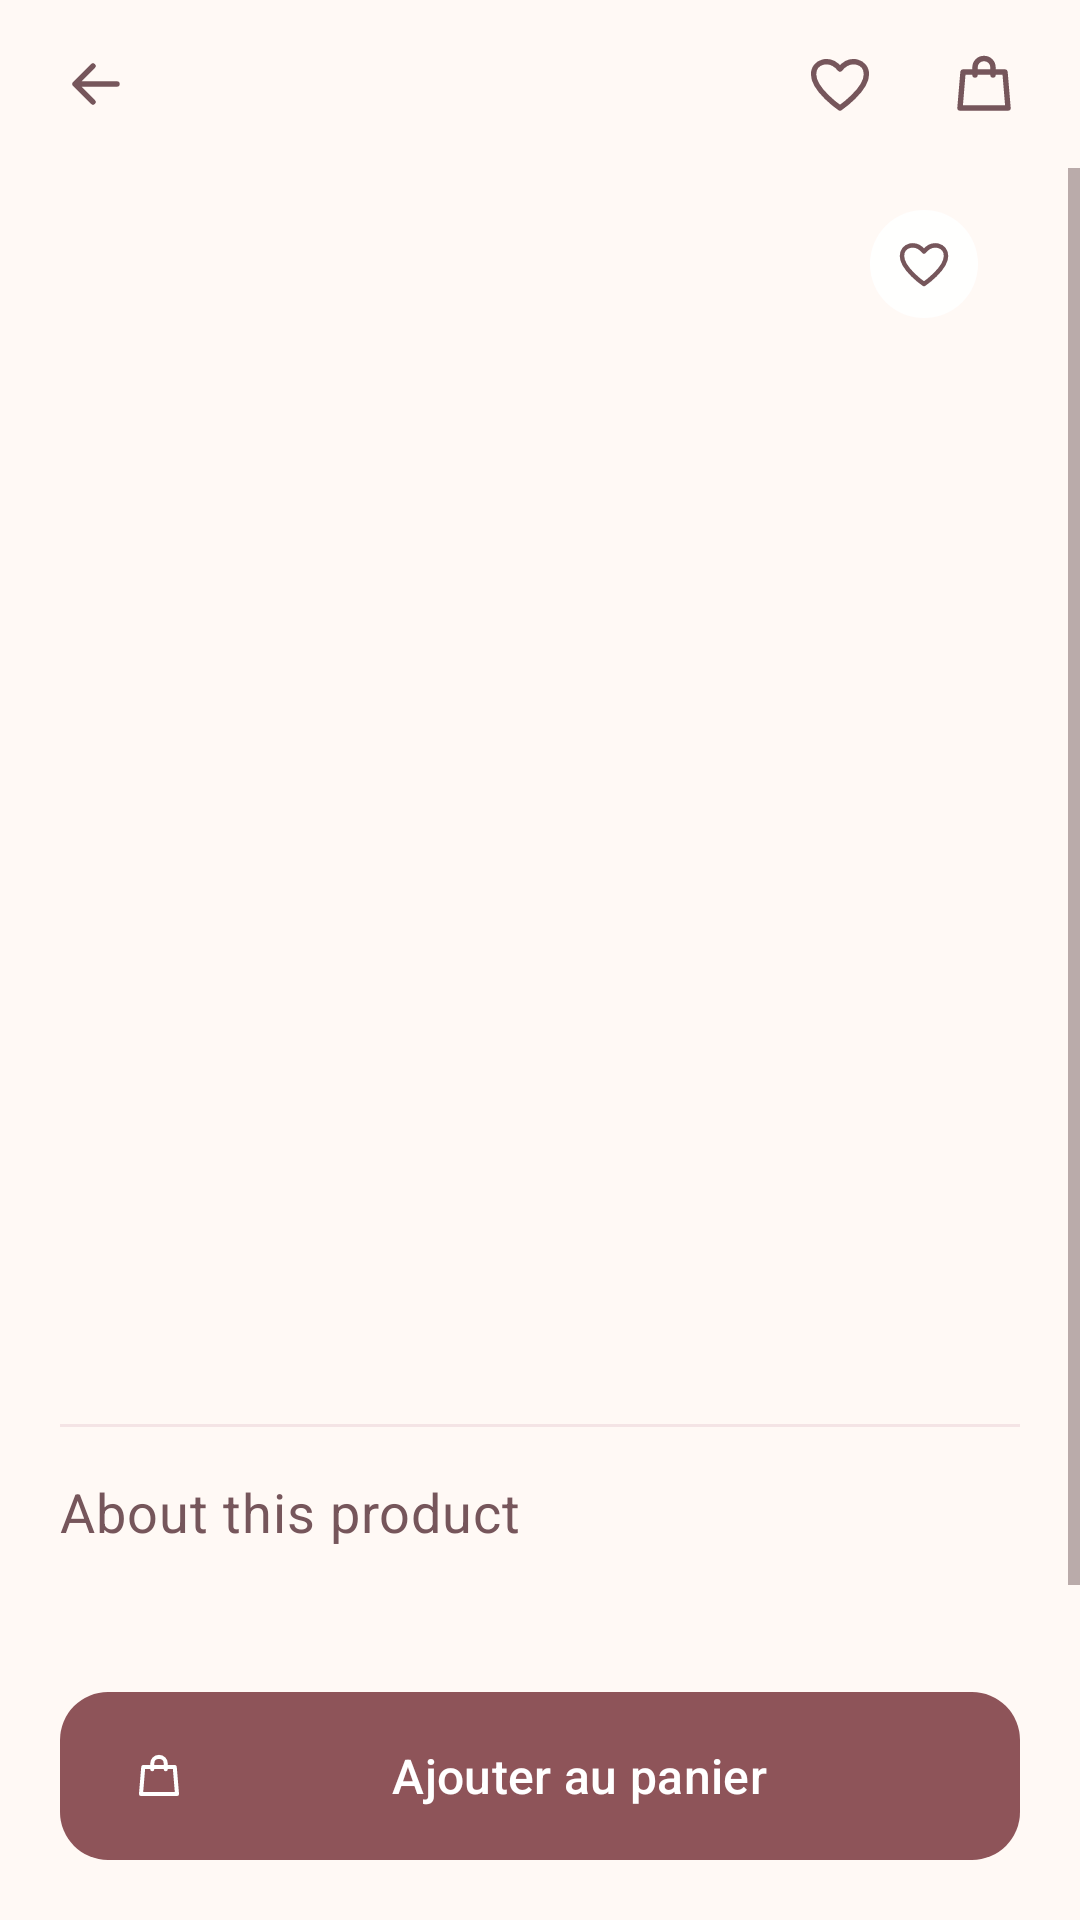

Icons on this 1080 x 1920 Android screen, each with the point to tap as (x,y):
Ajouter aux favoris: (924,264)
Mes favoris: (840,85)
Mon panier: (984,83)
Retour au catalogue: (96,84)
